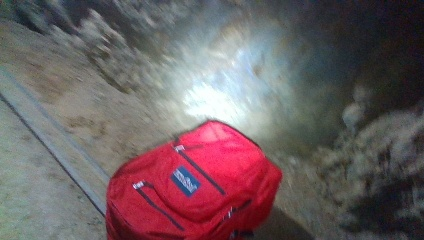backpack: (100, 118, 283, 240)
